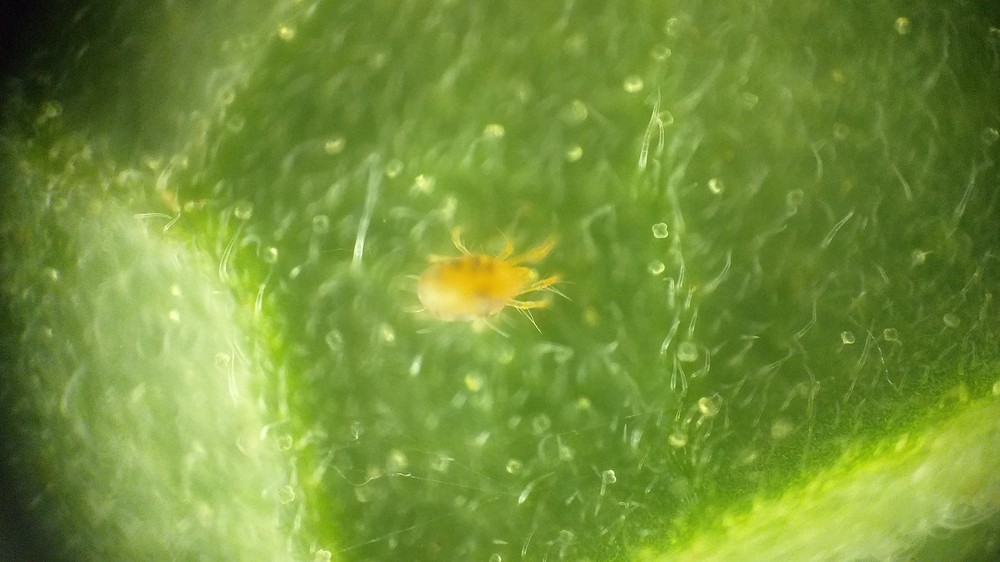Aracnido Rojo: (385, 213, 589, 354)
